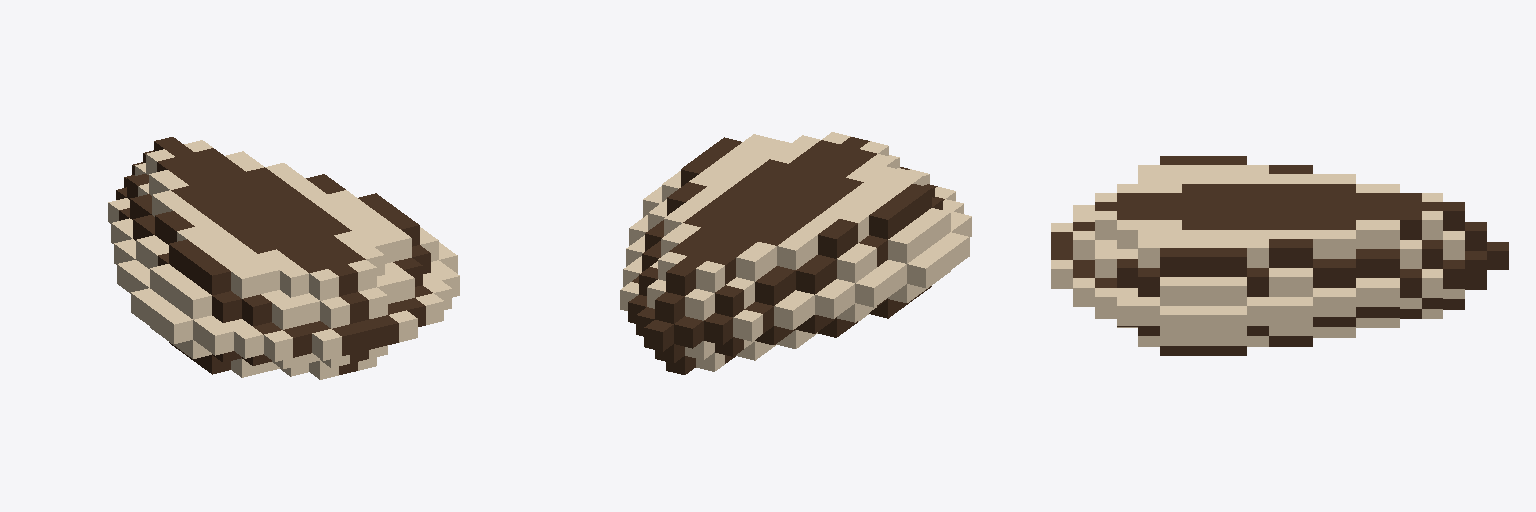
3 views of the same model, side by side, from view 1: azimuth 30°, elevation 25°; view 2: azimuth 150°, elevation 25°; view 3: azimuth 270°, elevation 25° (orthographic).
Parts seen in each view (by area): view 1: object 1; view 2: object 1; view 3: object 1.
Part boxes in pixels (x1,y1,x2,y2): object 1: (108,137,459,379); object 1: (620,132,971,374); object 1: (1051,156,1508,355).
Size of the model in its own units: 1.5 by 0.5 by 2.1.
1 materials, 1 textured.